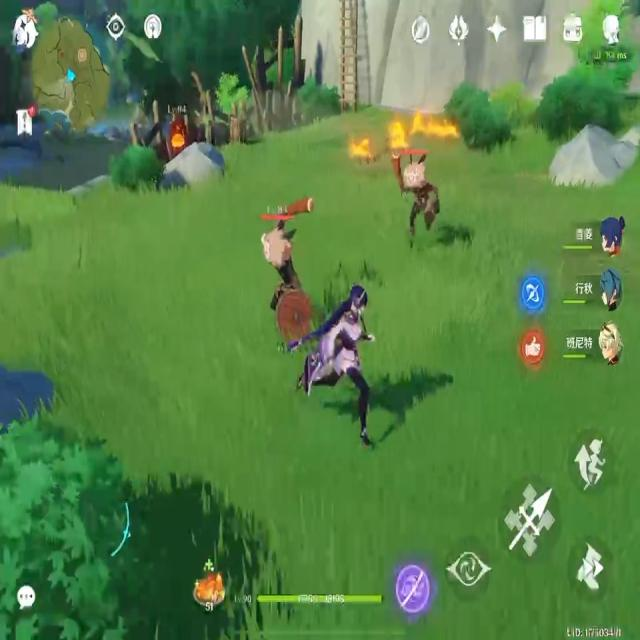genshin-hilichurls: (247, 193, 321, 331), (388, 138, 449, 251)
